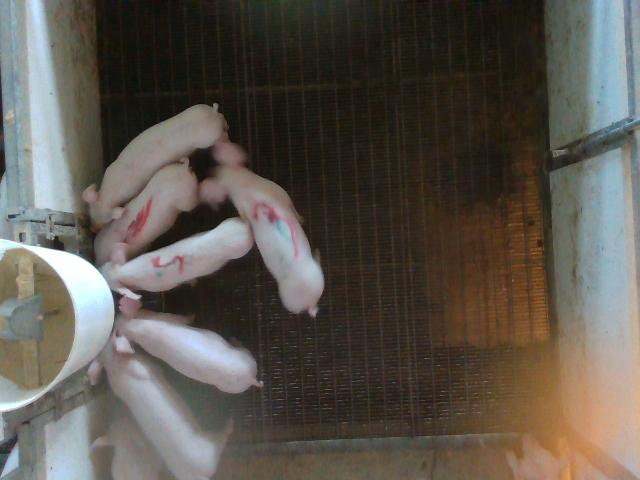pig-1: (95, 159, 198, 266)
pig-3: (200, 135, 324, 316)
pig-5: (100, 218, 254, 299)
